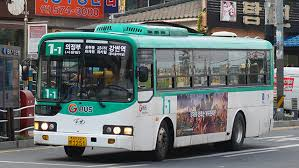bnum: (46, 42, 63, 55)
